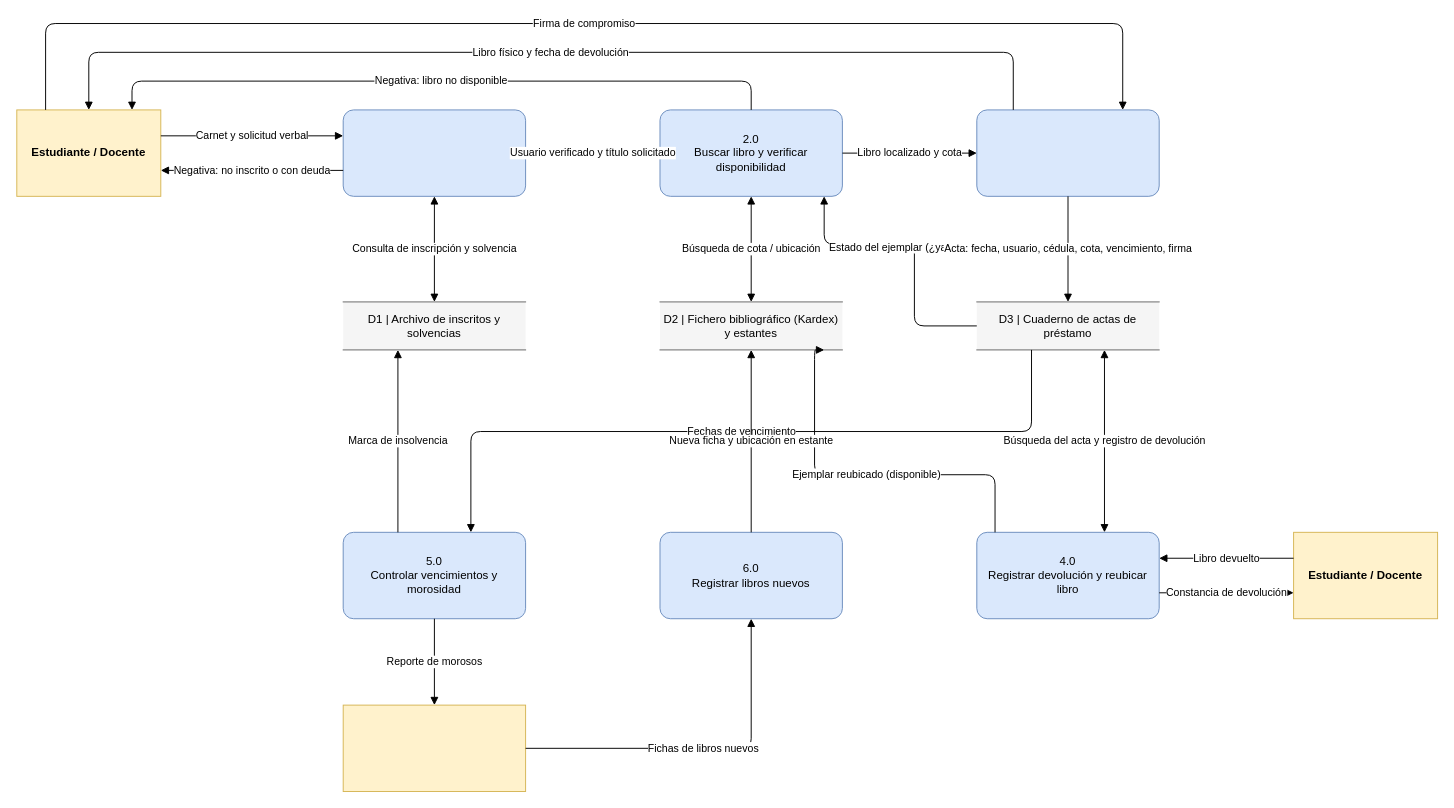
Image size: 1454x808. Some labels were removed from this diagram. Here are the shapes that lost their labels. From the top down, the box of each, then its label:
(342, 109, 526, 196): 1.0 Verificar usuario
(976, 109, 1159, 196): 3.0 Registrar préstamo y entregar libro
(342, 704, 526, 792): Personal de Biblioteca
